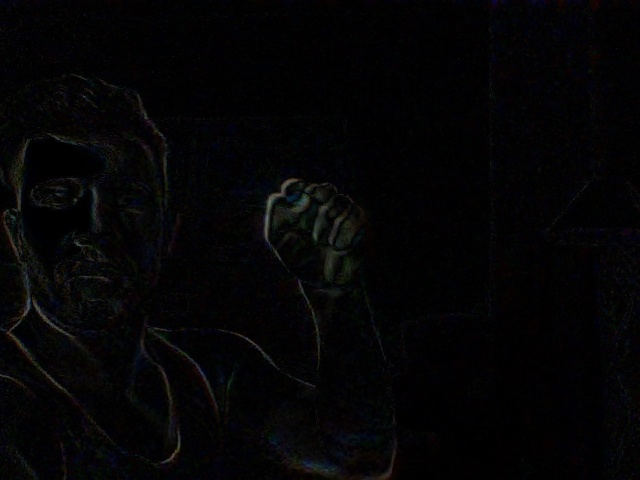hand_fi: (253, 162, 372, 281)
